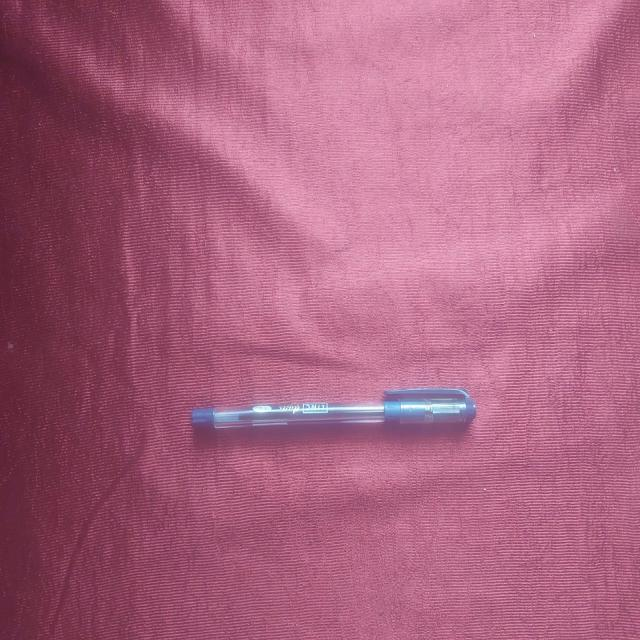blessing_card: (189, 383, 486, 444)
